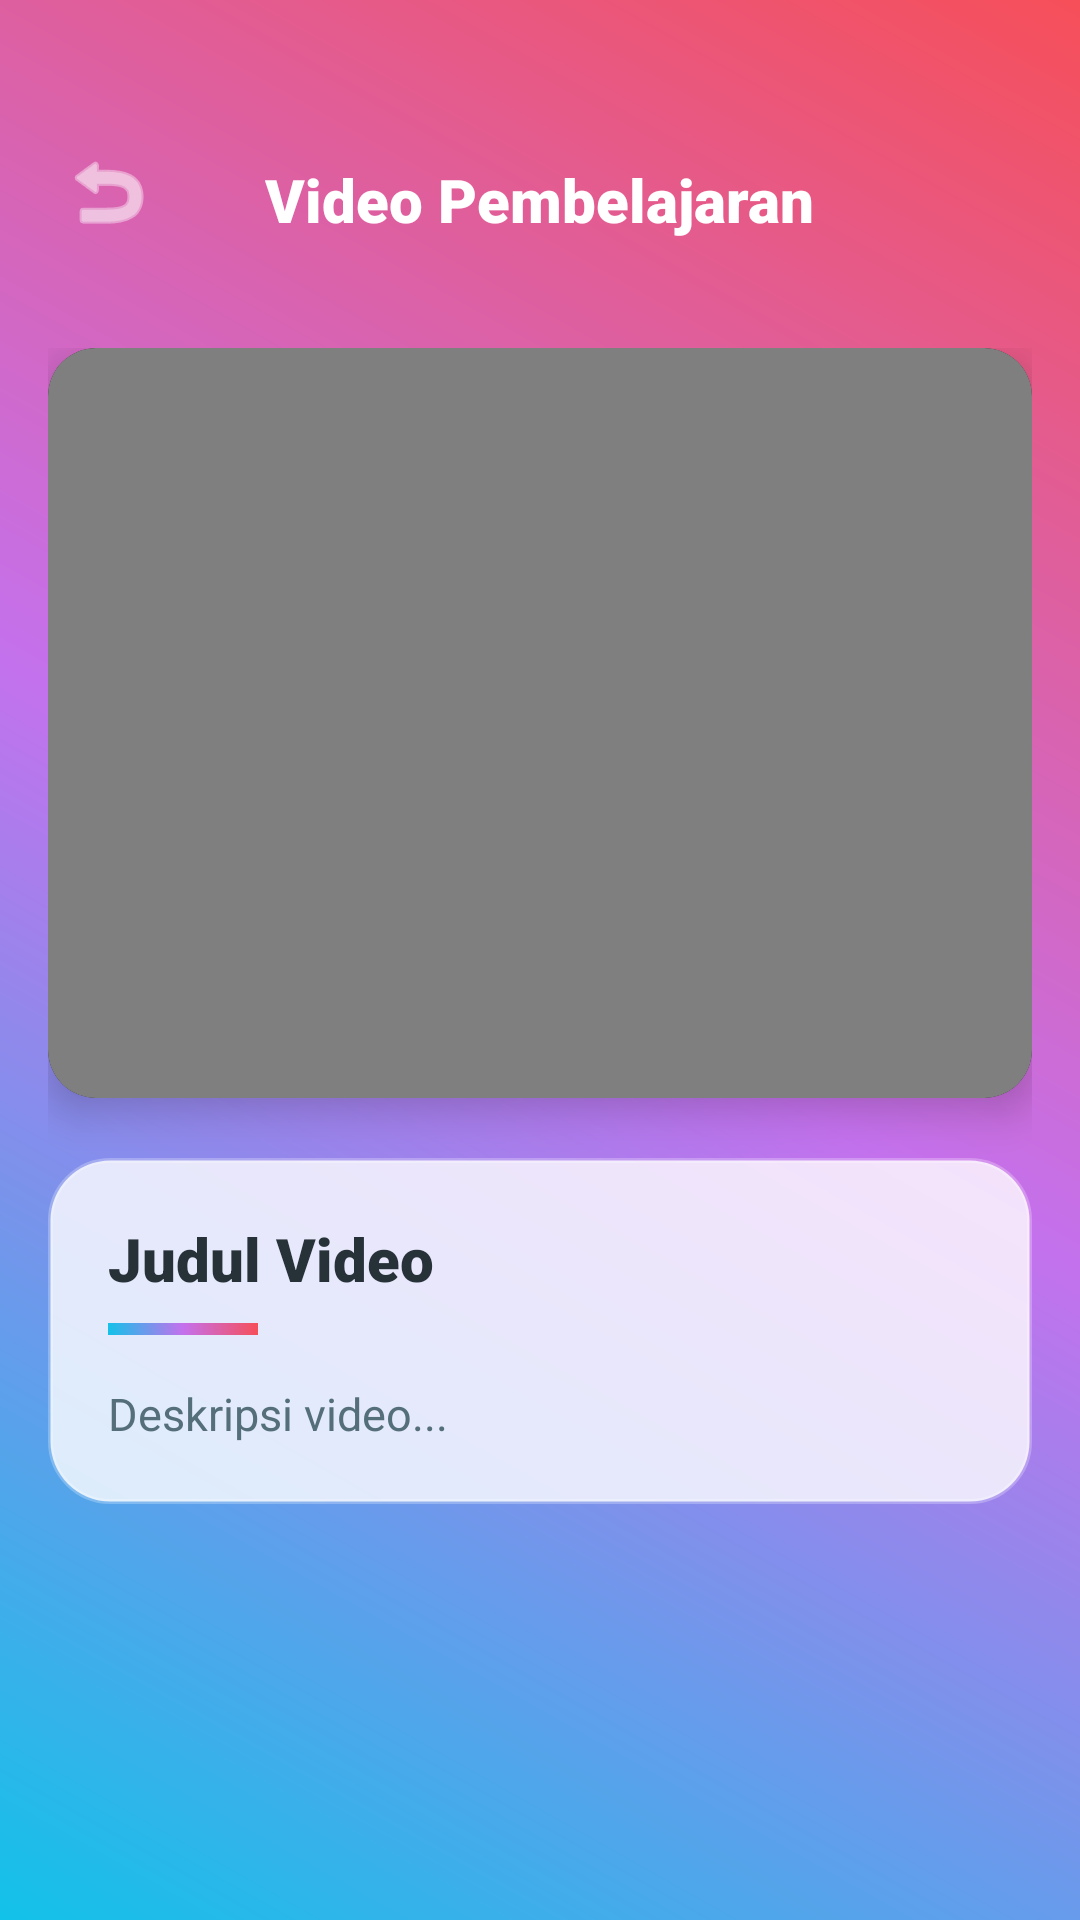

Point at icon controls on the screen. Image size 1080×1920, points as (x=x, y=y).
revert: (x=109, y=193)
